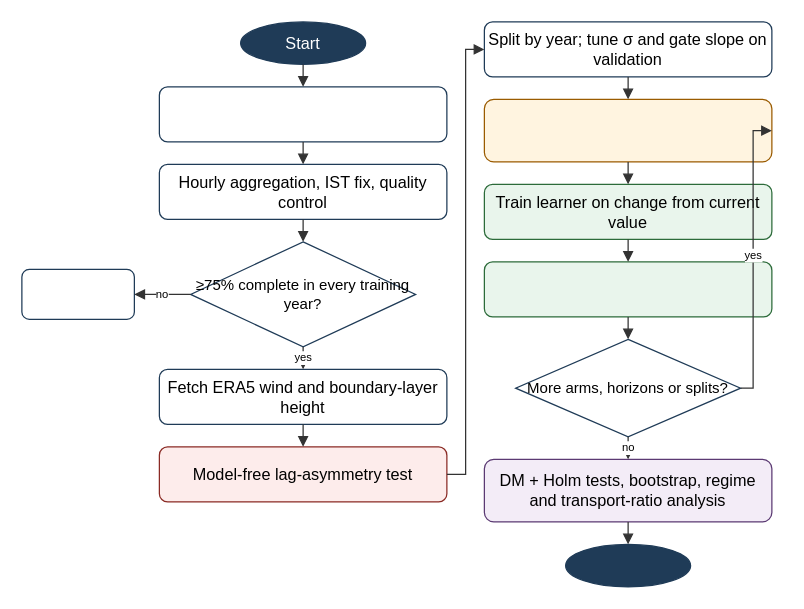
This 804x609 diagram has some shape labels left out. Each missing label, with the box of its shape:
Build graph P(t) at origin; aggregate neighbour features: (483, 98, 772, 162)
Download Delhi rows of the CPCB archive (2019–2025): (158, 86, 447, 142)
End: (564, 543, 691, 587)
Exclude station: (21, 268, 134, 319)
Predict test year, horizons 1–24 h: (483, 261, 772, 317)
